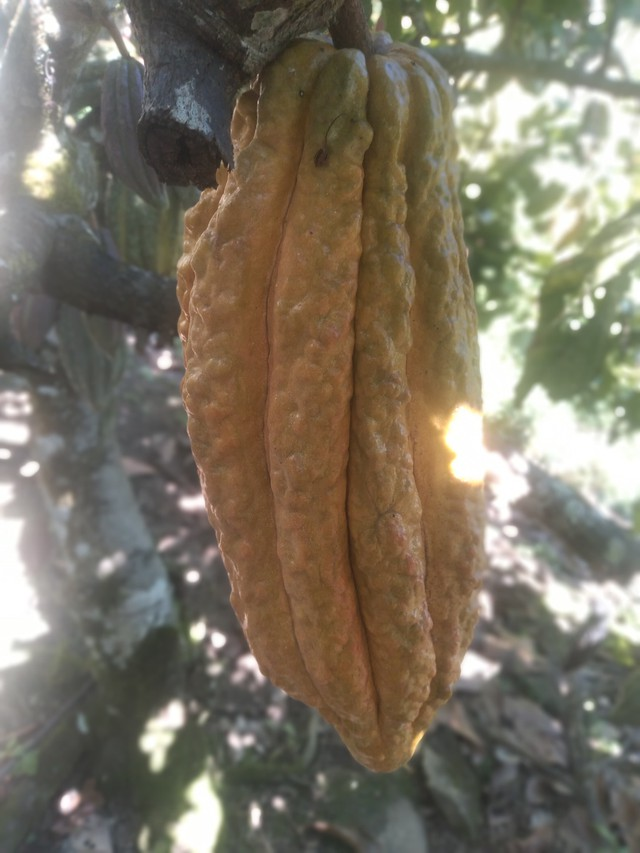Health: (141, 14, 515, 783)
